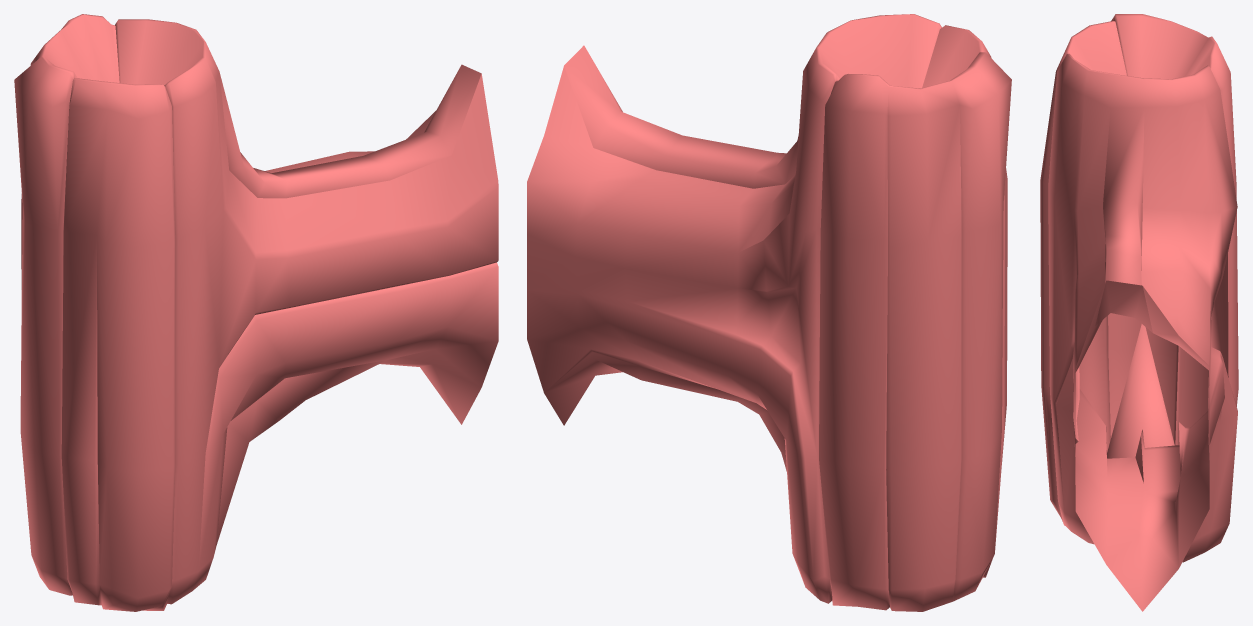
The model's file is Geonosis_LampWall01.fbx.
3 renders of one model, left to right at view 1: azimuth 30°, elevation 25°; view 2: azimuth 150°, elevation 25°; view 3: azimuth 270°, elevation 25°, orthographic. The views are drawn at different scales.
Visible parts, largest first — view 1: Geonosis_WallLamp01; view 2: Geonosis_WallLamp01; view 3: Geonosis_WallLamp01.
Part boxes in pixels (x1=…): Geonosis_WallLamp01: x1=14, y1=14, x2=498, y2=611; Geonosis_WallLamp01: x1=527, y1=14, x2=1011, y2=611; Geonosis_WallLamp01: x1=1040, y1=14, x2=1238, y2=611.
Bounding box in the file's own units: 108 × 128 × 47.08.
